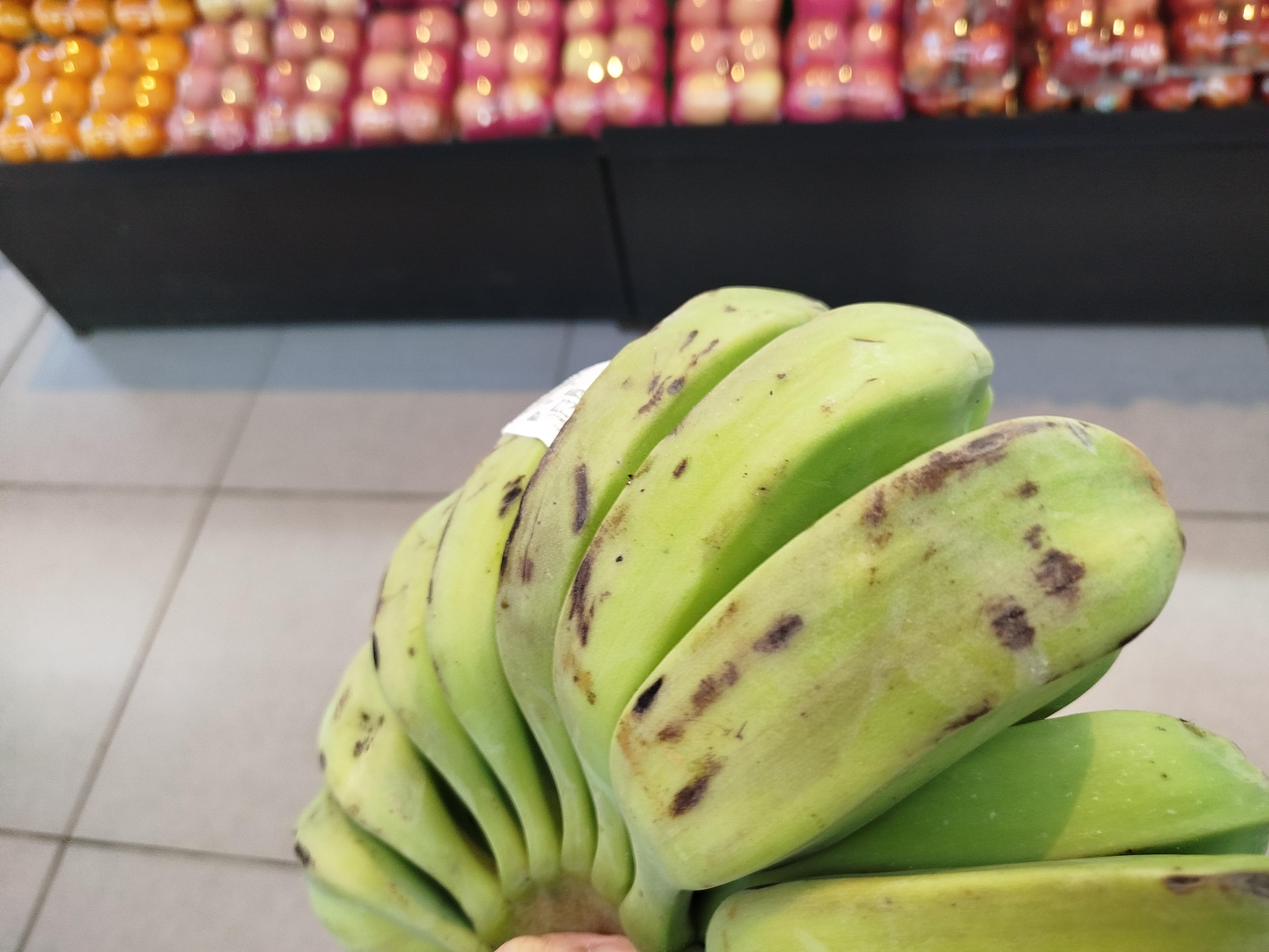underripe: (296, 288, 1269, 952)
